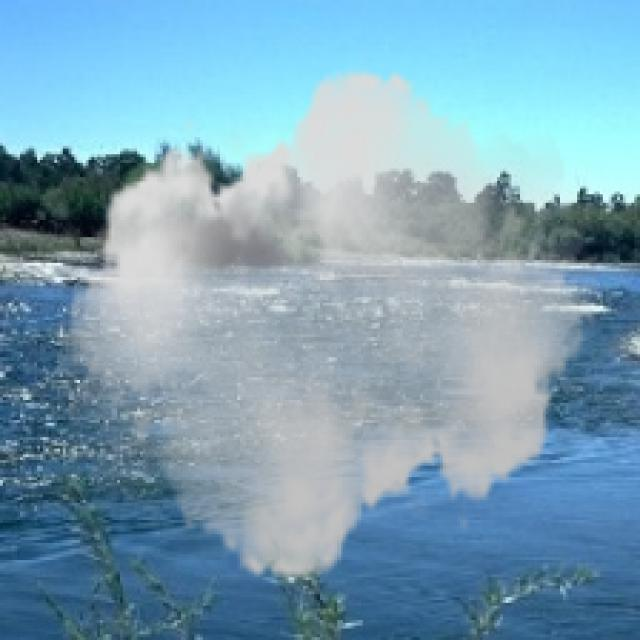smoke: (57, 49, 597, 600)
